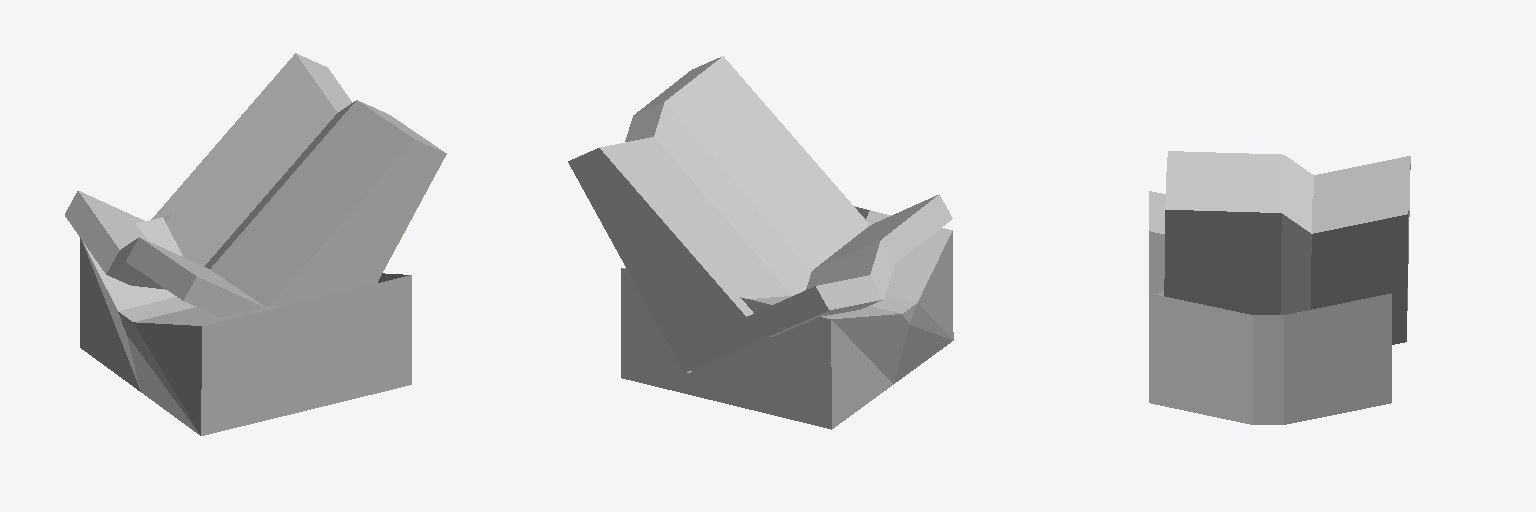
The model's file is brokenshelf.obj.
3 renders of one model, left to right at view 1: azimuth 30°, elevation 25°; view 2: azimuth 150°, elevation 25°; view 3: azimuth 270°, elevation 25°, orthographic.
Parts seen in each view (by area): view 1: BrokenShelf_Cube.010; view 2: BrokenShelf_Cube.010; view 3: BrokenShelf_Cube.010.
Part boxes in pixels (x1,y1,x2,y2): BrokenShelf_Cube.010: (65,53,446,435); BrokenShelf_Cube.010: (568,56,953,429); BrokenShelf_Cube.010: (1149,151,1410,424).
Size of the model in its own units: 2.59 by 2.43 by 2.15.